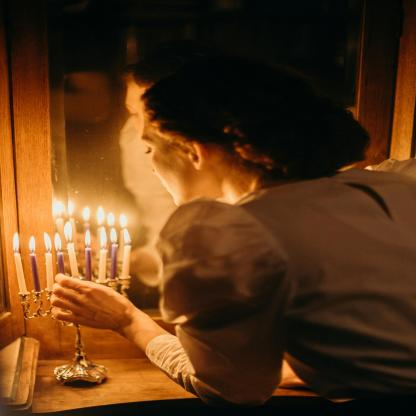fire: (5, 198, 147, 259)
